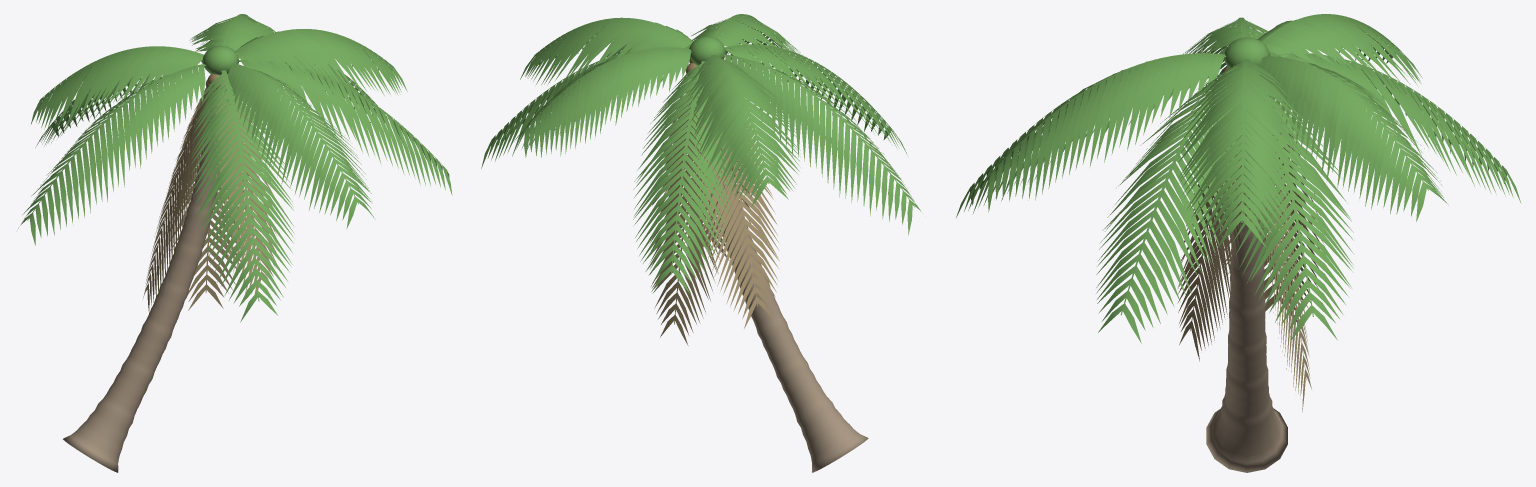
The model's file is palm2.glb.
3 views of the same model, side by side, from view 1: azimuth 30°, elevation 25°; view 2: azimuth 150°, elevation 25°; view 3: azimuth 270°, elevation 25° (orthographic). The views are drawn at different scales.
Visible parts, largest first — view 1: Palm2; view 2: Palm2; view 3: Palm2.
Part boxes in pixels (x1,y1,x2,y2): Palm2: [18, 14, 452, 472]; Palm2: [481, 14, 920, 472]; Palm2: [956, 14, 1521, 472].
Size of the model in its own units: 10.31 by 9.87 by 10.11.
